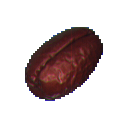ng: (22, 22, 109, 104)
